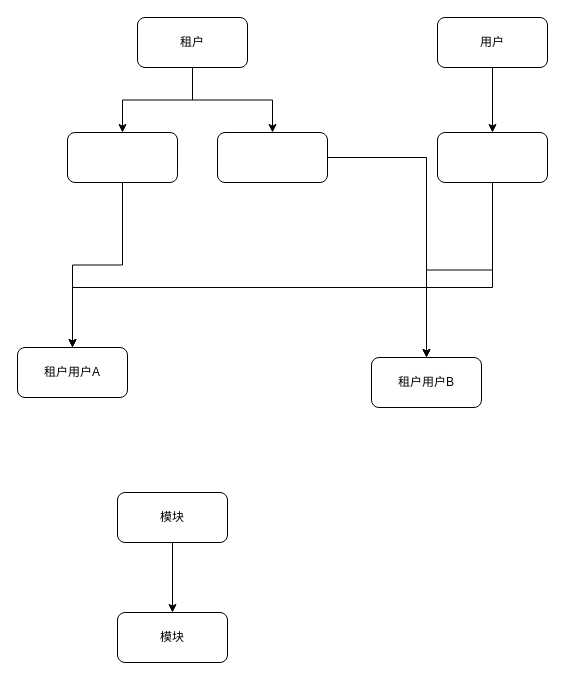
Image size: 565x680. Some labels were removed from this diagram. The centre of each missing label's shape, as x and y in pixels:
"Ljh" goes at pixel 492 157.
"战队A" goes at pixel 122 157.
"战队B" goes at pixel 272 157.
